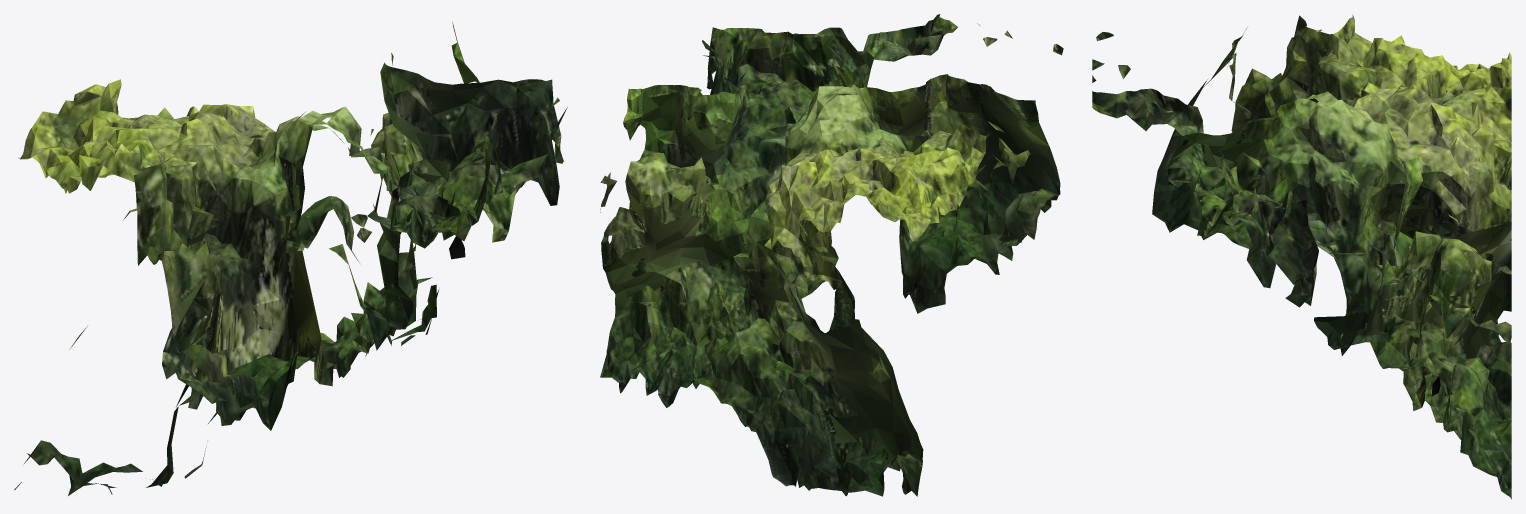
The picture shows the model from 3 angles, left to right: view 1: azimuth 30°, elevation 25°; view 2: azimuth 150°, elevation 25°; view 3: azimuth 270°, elevation 25°; orthographic projection. The views are drawn at different scales.
Bounding box in the file's own units: 26.11 × 26.11 × 26.11.
6 materials, 6 textured.
